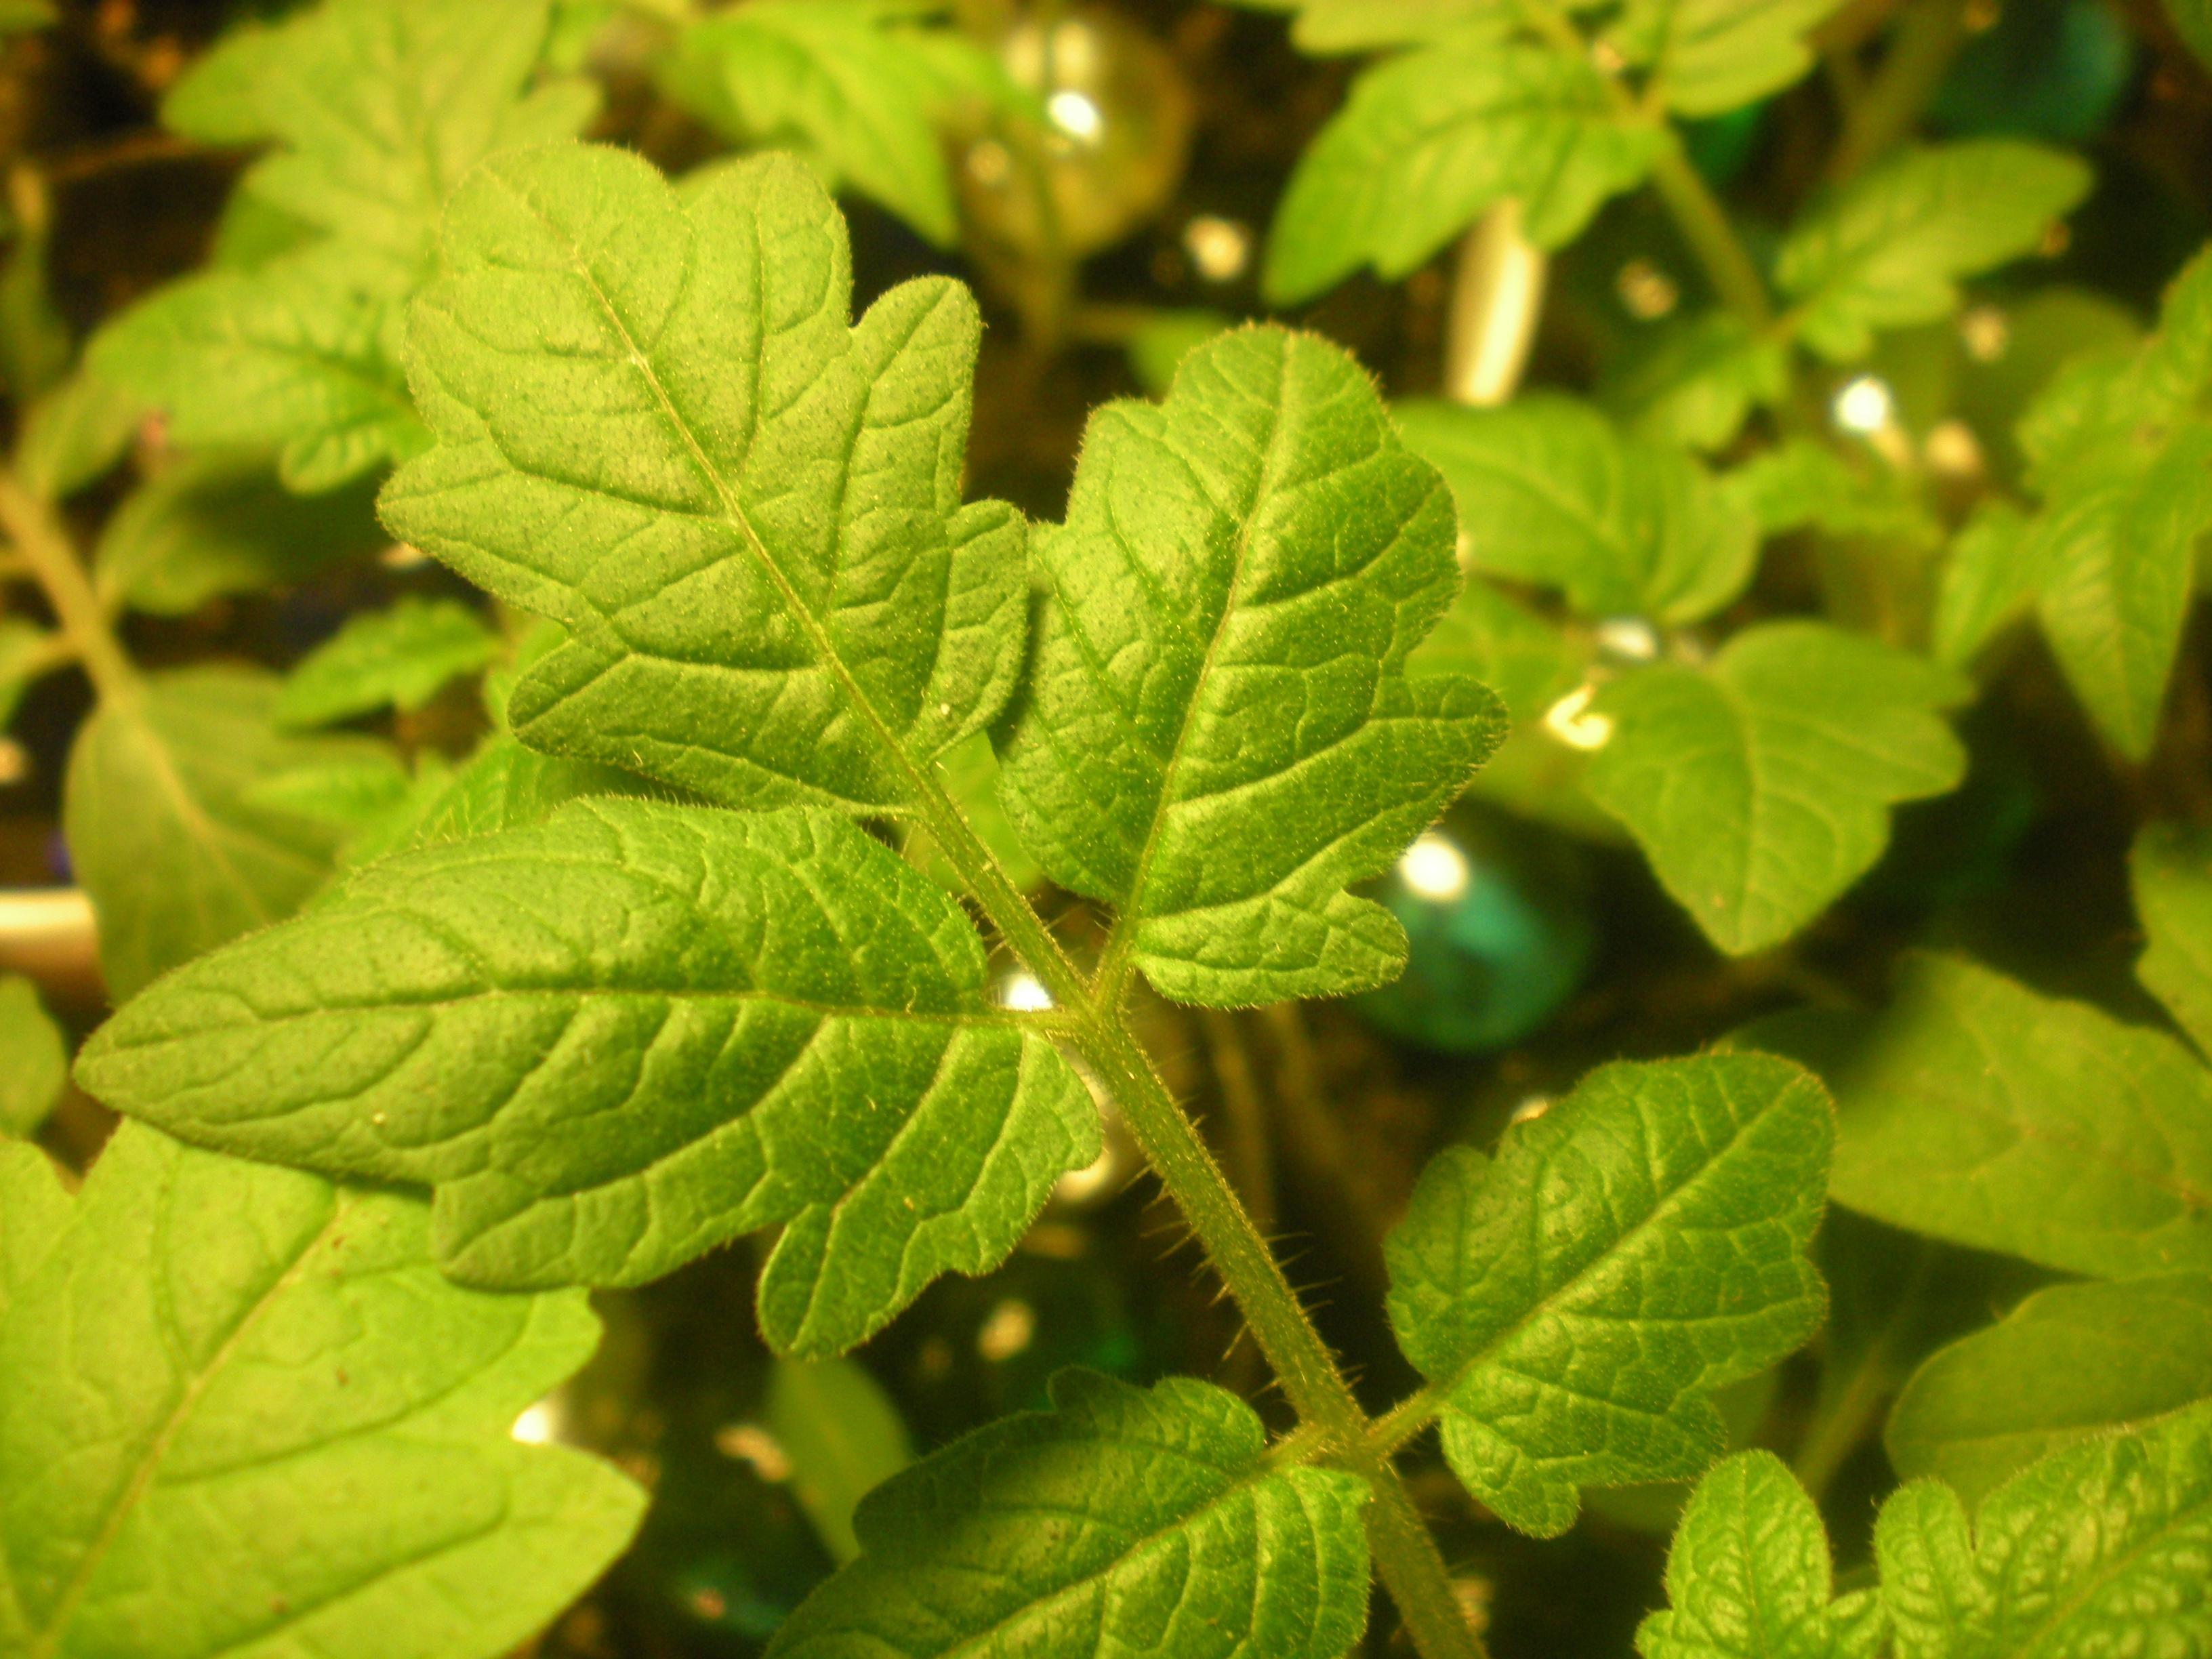Tomato leaf: (64, 812, 1120, 1349), (380, 125, 1015, 845), (968, 303, 1508, 1082), (1325, 1007, 1883, 1493), (738, 1345, 1383, 1659), (1540, 613, 1977, 967), (1235, 16, 1681, 305), (1372, 355, 1763, 634)
